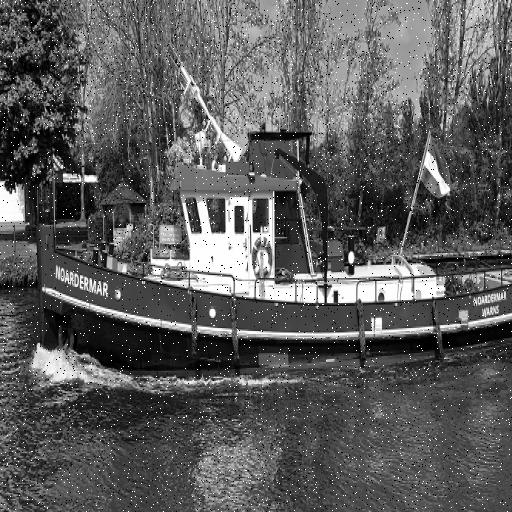tugboat: (34, 127, 512, 394)
